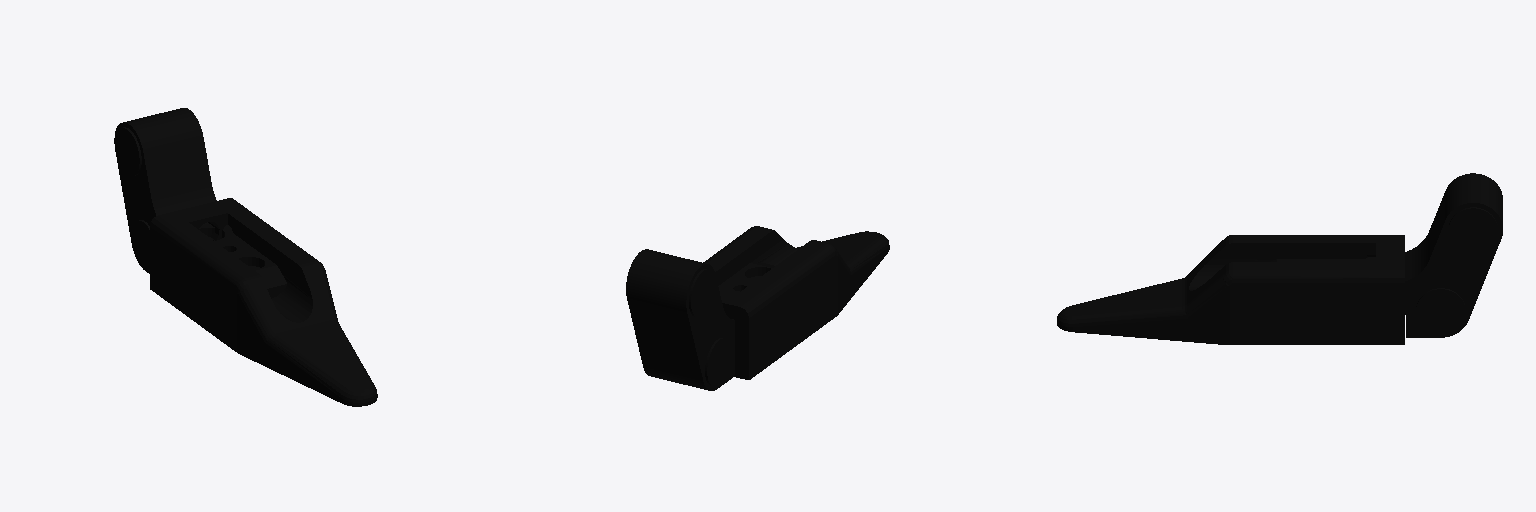
File: robotiq_arg2f_85_inner_finger_GT.obj
3 renders of one model, left to right at view 1: azimuth 30°, elevation 25°; view 2: azimuth 150°, elevation 25°; view 3: azimuth 270°, elevation 25°, orthographic.
Bounding box in the file's own units: 0.0203 × 0.0301 × 0.0896.